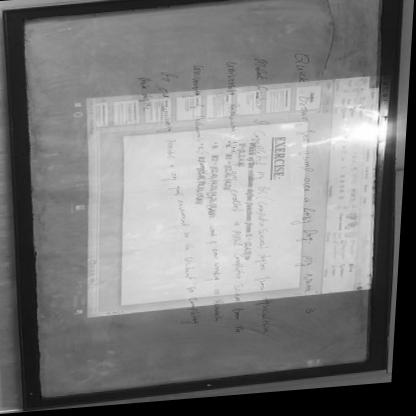Handwritten text: (149, 68, 213, 336), (281, 54, 333, 324), (244, 57, 287, 345), (214, 62, 254, 342), (186, 64, 216, 148)
Whiteboard: (17, 0, 390, 402)
